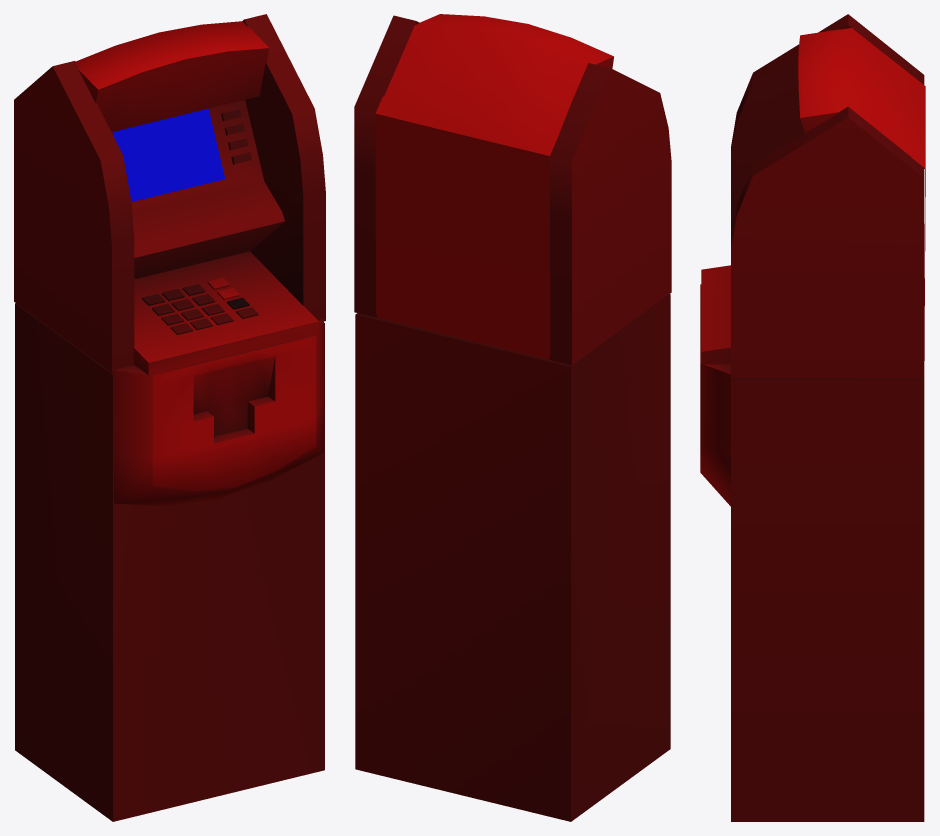
Rendered from ATM.glb.
The picture shows the model from 3 angles, left to right: view 1: azimuth 30°, elevation 25°; view 2: azimuth 150°, elevation 25°; view 3: azimuth 270°, elevation 25°; orthographic projection. The views are drawn at different scales.
Visible parts, largest first — view 1: ATM; view 2: ATM; view 3: ATM.
Part boxes in pixels (x1=…): ATM: x1=14, y1=14, x2=325, y2=821; ATM: x1=354, y1=14, x2=671, y2=821; ATM: x1=700, y1=14, x2=925, y2=821.
Size of the model in its own units: 3.04 by 9.77 by 2.8.
